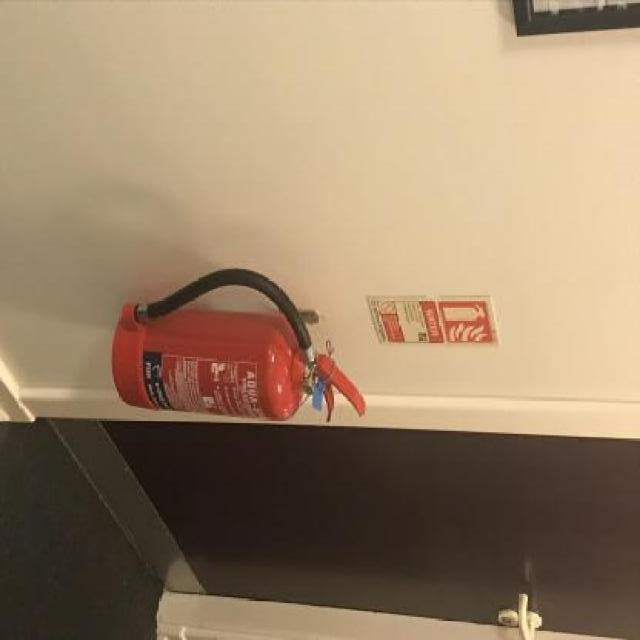fire extinguisher: (109, 269, 366, 423)
